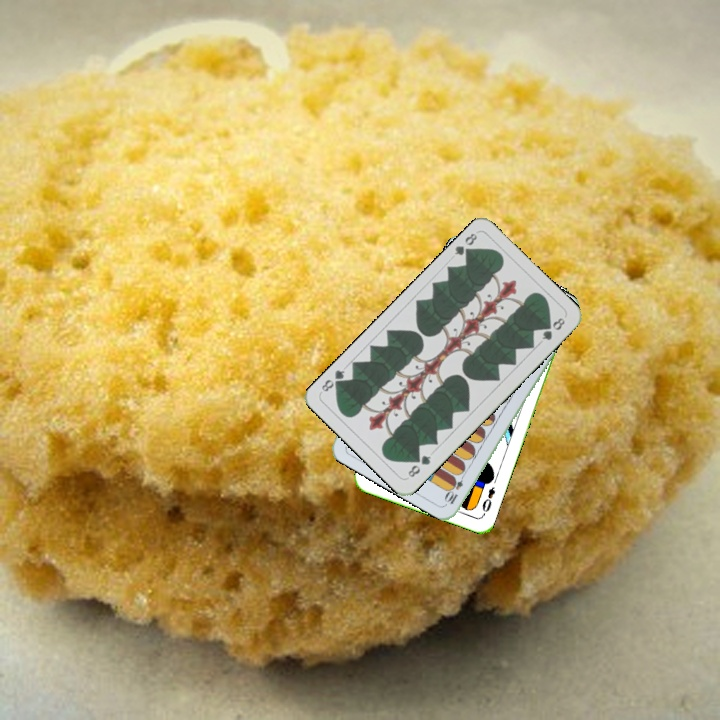E10: (442, 468, 468, 507)
EO: (478, 483, 498, 515)
G8: (403, 451, 434, 481), (450, 229, 480, 260)
